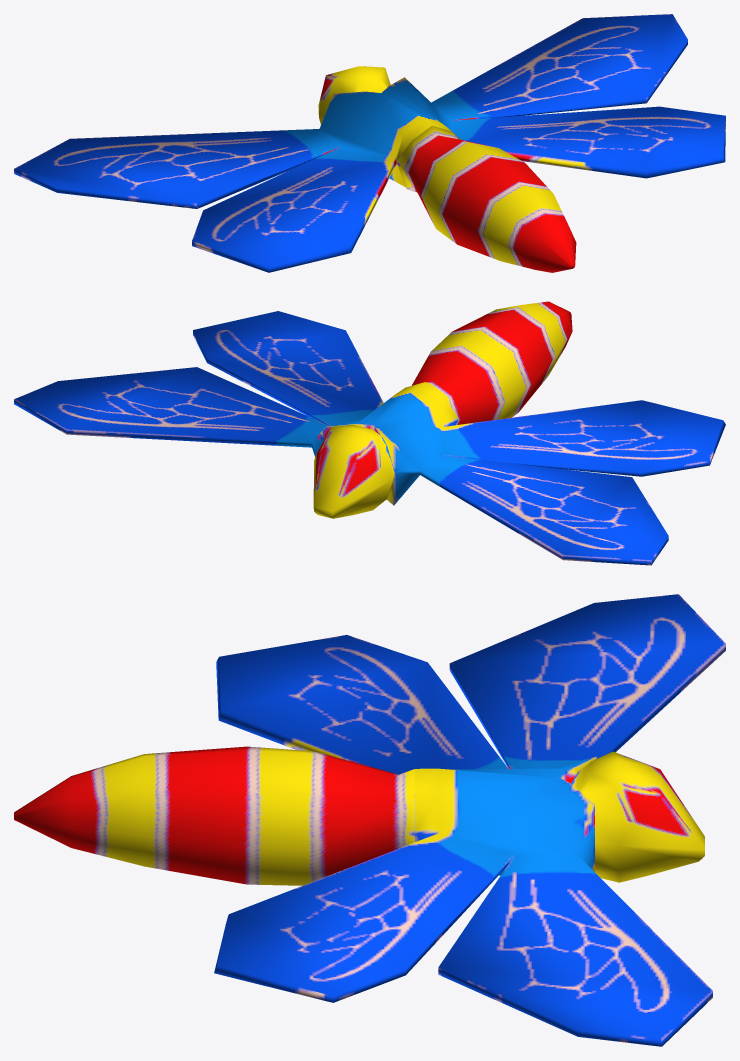
File: bee.glb
3 renders of one model, top to bottom at view 1: azimuth 30°, elevation 25°; view 2: azimuth 150°, elevation 25°; view 3: azimuth 270°, elevation 25°, orthographic. The views are drawn at different scales.
Parts seen in each view (by area): view 1: bee; view 2: bee; view 3: bee.
Part boxes in pixels (bbox=[...]): bee: bbox=[14, 14, 725, 272]; bee: bbox=[14, 301, 725, 565]; bee: bbox=[14, 594, 725, 1046].
Bounding box in the file's own units: 45.66 × 6.36 × 30.83.
Materials: 1 (1 with a texture image).
